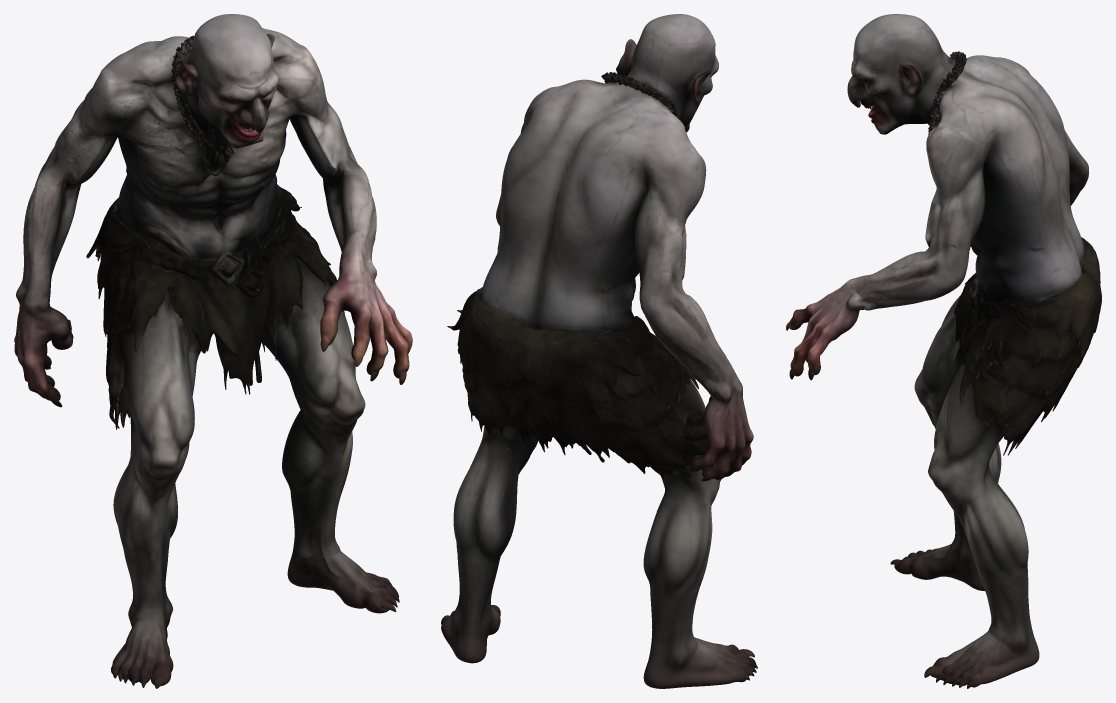
File: ghoul.glb
3 views of the same model, side by side, from view 1: azimuth 30°, elevation 25°; view 2: azimuth 150°, elevation 25°; view 3: azimuth 270°, elevation 25° (orthographic). The views are drawn at different scales.
Parts seen in each view (by area): view 1: material; view 2: material; view 3: material.
Part boxes in pixels (bbox=[...]): material: bbox=[14, 14, 412, 688]; material: bbox=[441, 14, 757, 688]; material: bbox=[786, 14, 1101, 688].
Bounding box in the file's own units: 0.5826 × 1.05 × 0.5144.
Materials: 1 (1 with a texture image).
